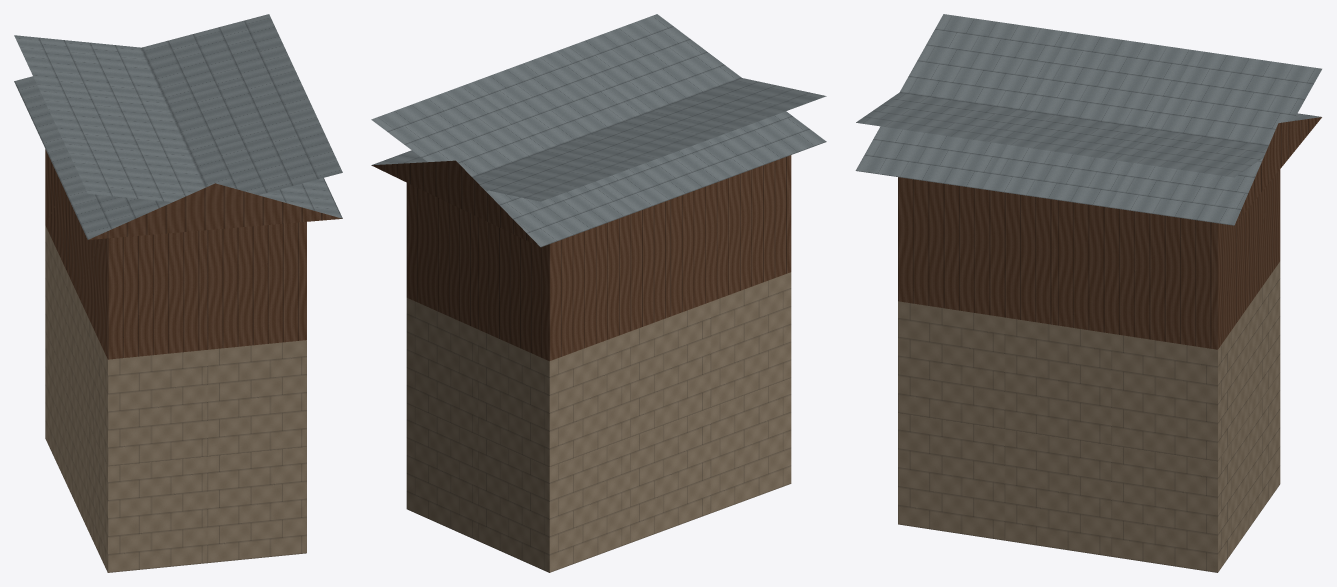
File: bld_c-17_-32_913.gltf
3 renders of one model, left to right at view 1: azimuth 30°, elevation 25°; view 2: azimuth 150°, elevation 25°; view 3: azimuth 270°, elevation 25°, orthographic. The views are drawn at different scales.
Visible parts, largest first — view 1: bld_c-17_-32_913; view 2: bld_c-17_-32_913; view 3: bld_c-17_-32_913.
Part boxes in pixels (x1,y1,x2,y2): bld_c-17_-32_913: (14, 14, 342, 572); bld_c-17_-32_913: (371, 14, 826, 572); bld_c-17_-32_913: (855, 14, 1321, 572).
Bounding box in the file's own units: 7.28 × 8.5 × 8.78.
4 materials, 4 textured.
